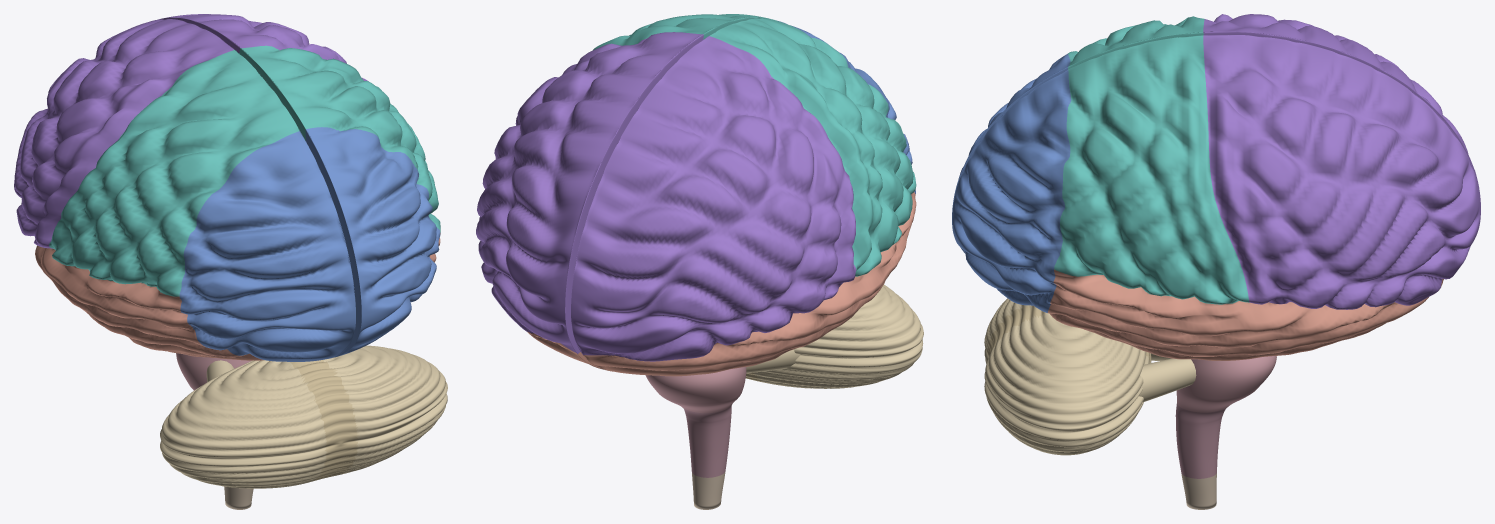
File: brain.glb
3 views of the same model, side by side, from view 1: azimuth 30°, elevation 25°; view 2: azimuth 150°, elevation 25°; view 3: azimuth 270°, elevation 25° (orthographic). The views are drawn at different scales.
Visible parts, largest first — view 1: Left_Occipital.001, Left_Parietal.001, Left_Frontal.001, Right_Occipital.001, Cerebellum_LeftCerebellum.001, Right_Parietal.001, Cerebellum_RightCerebellum.001, Left_Temporal.001, Cerebellum_Vermis.001, Right_Frontal.001, Brainstem_Pons.001, Brainstem_SpinalCord.001; view 2: Left_Frontal.001, Right_Frontal.001, Left_Parietal.001, Cerebellum_LeftCerebellum.001, Left_Temporal.001, Brainstem_Pons.001, Brainstem_Medulla.001, Right_Parietal.001, Brainstem_SpinalCord.001, Left_Occipital.001, Middle_cerebellar_peduncles.001; view 3: Right_Frontal.001, Right_Parietal.001, Right_Occipital.001, Right_Temporal.001, Cerebellum_RightCerebellum.001, Left_Frontal.001, Brainstem_Pons.001, Brainstem_Medulla.001, Left_Parietal.001, Middle_cerebellar_peduncles.001, Left_Occipital.001, Brainstem_SpinalCord.001 (+2 smaller).
Part boxes in pixels (x1,y1,x2,y2): Left_Occipital.001: [179, 130, 355, 361]; Left_Parietal.001: [49, 49, 299, 296]; Left_Frontal.001: [14, 19, 234, 248]; Right_Occipital.001: [305, 127, 440, 357]; Cerebellum_LeftCerebellum.001: [160, 360, 327, 488]; Right_Parietal.001: [239, 45, 440, 232]; Cerebellum_RightCerebellum.001: [323, 345, 447, 474]; Left_Temporal.001: [35, 245, 264, 360]; Cerebellum_Vermis.001: [290, 360, 359, 481]; Right_Frontal.001: [158, 14, 368, 81]; Brainstem_Pons.001: [176, 353, 251, 390]; Brainstem_SpinalCord.001: [224, 486, 253, 509]; Left_Frontal.001: [571, 35, 856, 361]; Right_Frontal.001: [476, 32, 703, 353]; Left_Parietal.001: [710, 18, 916, 276]; Cerebellum_LeftCerebellum.001: [754, 284, 923, 388]; Left_Temporal.001: [583, 192, 916, 376]; Brainstem_Pons.001: [645, 367, 746, 413]; Brainstem_Medulla.001: [683, 405, 731, 477]; Right_Parietal.001: [592, 14, 769, 50]; Brainstem_SpinalCord.001: [692, 471, 725, 509]; Left_Occipital.001: [778, 21, 915, 193]; Middle_cerebellar_peduncles.001: [746, 349, 800, 373]; Right_Frontal.001: [1203, 35, 1480, 309]; Right_Parietal.001: [1054, 35, 1249, 304]; Right_Occipital.001: [952, 70, 1071, 312]; Right_Temporal.001: [1047, 269, 1443, 360]; Cerebellum_RightCerebellum.001: [984, 313, 1149, 455]; Left_Frontal.001: [1203, 14, 1480, 205]; Brainstem_Pons.001: [1176, 356, 1276, 412]; Brainstem_Medulla.001: [1175, 403, 1226, 478]; Left_Parietal.001: [1068, 16, 1204, 69]; Middle_cerebellar_peduncles.001: [1139, 353, 1196, 401]; Left_Occipital.001: [952, 53, 1070, 215]; Brainstem_SpinalCord.001: [1181, 473, 1216, 509].
Size of the model in its own units: 0.1329 by 0.1671 by 0.17.
